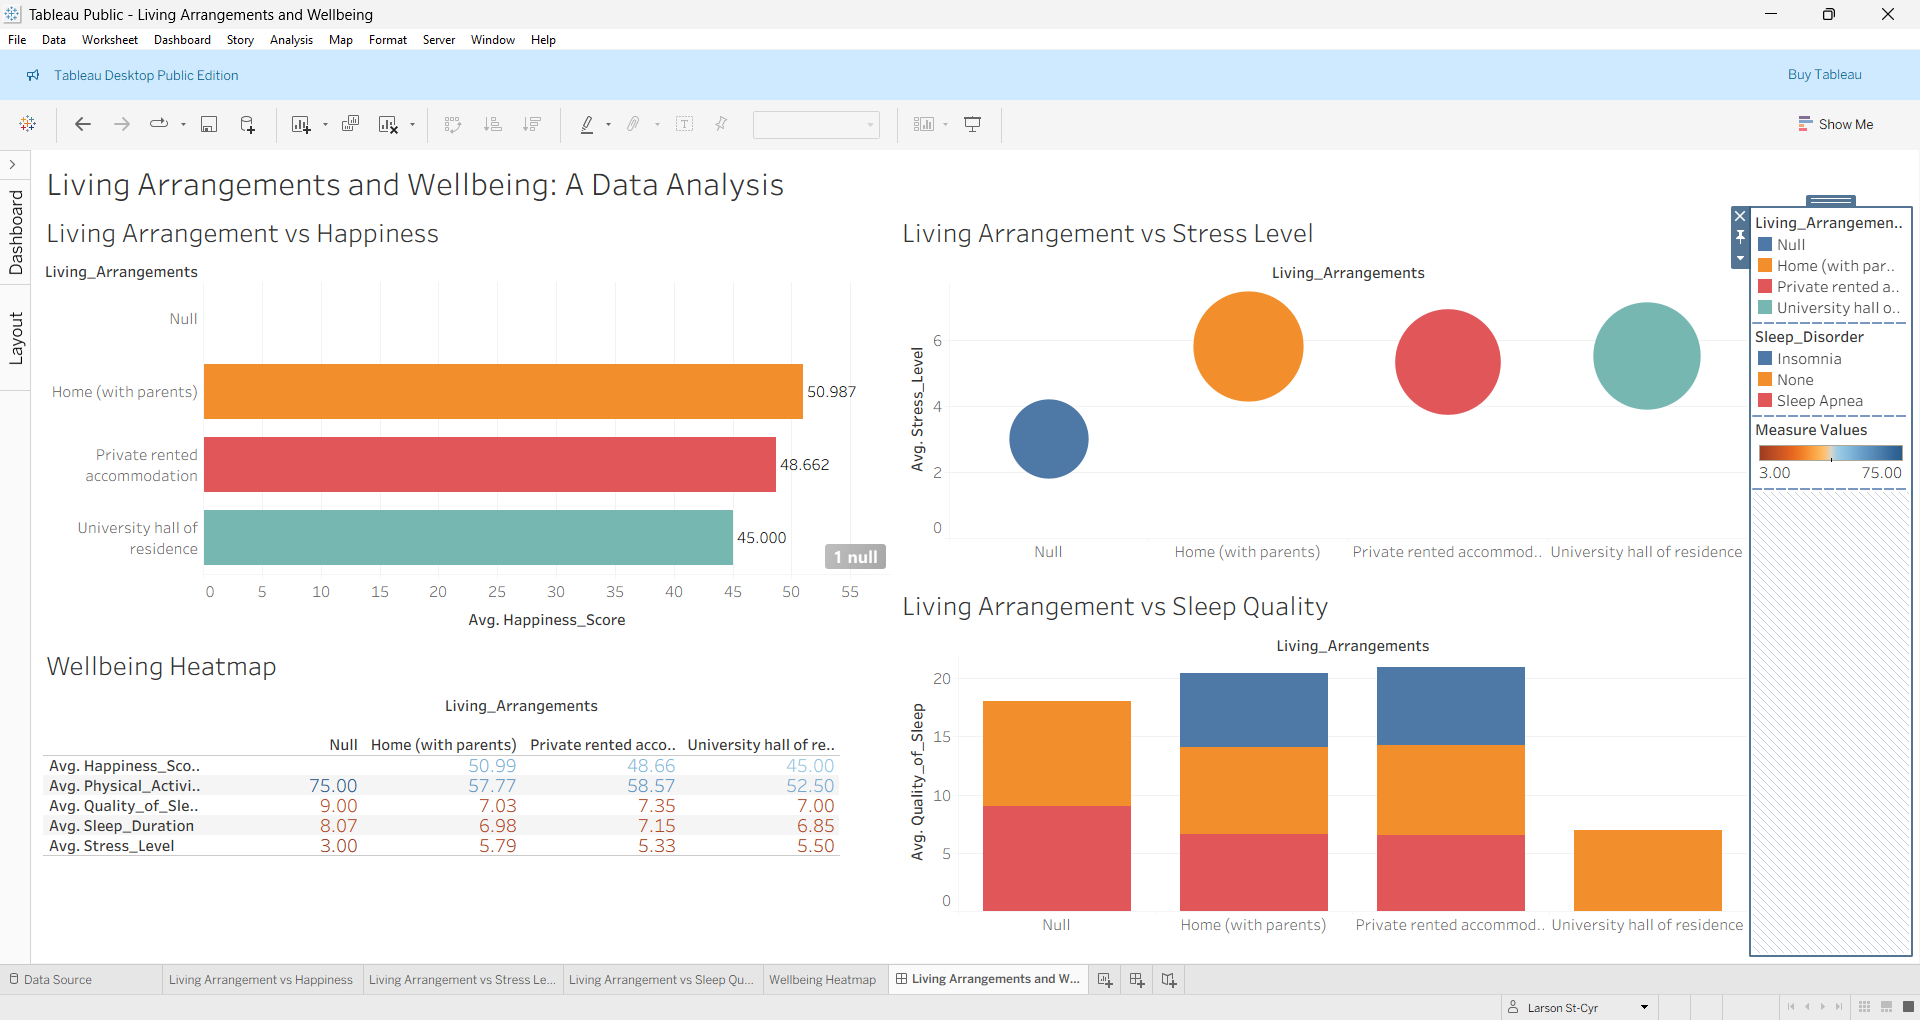

Layout of this report page (visuals, bound fields, positions):
{"tool":"tableau","page":{"name":"Living Arrangements and Wellbeing: A Data Analysis","canvas":[1000,1000],"units":"permille","ordinal":0},"visuals":[{"type":"title","box":[4.8,10,990.3,62.4]},{"type":"worksheet","title":"Living Arrangement vs Happiness","mark":"Bar","rows":["F38"],"cols":["F15"],"box":[4.8,72.4,446.9,531.9]},{"type":"worksheet","title":"Living Arrangement vs Stress Level","mark":"Circle","rows":["F3"],"cols":["F38"],"box":[451.7,72.4,446.9,458.8]},{"type":"legend","title":"Living Arrangement vs Happiness","param":"[federated.0ypbnib103zkcn19qgr0p1esd3tt].[none:F38:nk]","box":[898.6,72.4,96.6,142.3]},{"type":"legend","title":"Living Arrangement vs Sleep Quality","param":"[federated.0ypbnib103zkcn19qgr0p1esd3tt].[none:F43:nk]","box":[898.6,214.7,96.6,116.1]},{"type":"legend","title":"Wellbeing Heatmap","param":"[federated.0ypbnib103zkcn19qgr0p1esd3tt].[Multiple Values]","box":[898.6,330.8,96.6,91.1]},{"type":"worksheet","title":"Living Arrangement vs Sleep Quality","mark":"Automatic","rows":["F2"],"cols":["F38"],"box":[451.7,531.2,446.9,458.8]},{"type":"worksheet","title":"Wellbeing Heatmap","mark":"Automatic","cols":["F38"],"box":[4.8,604.3,446.9,385.7]}]}

Visuals, with their boxes on the dashboard's canvas, which has no fixed pixel size, in thousandths of its width and height (x1, y1, x2, y2). These are canvas units, not pixel positions in the 1920x1020 screenshot, which may show the page scaled, cropped or inside an application window:
title: region(5, 10, 995, 72)
"Living Arrangement vs Happiness" worksheet (Bar marks): region(5, 72, 452, 604)
"Living Arrangement vs Stress Level" worksheet (Circle marks): region(452, 72, 899, 531)
"Living Arrangement vs Happiness" legend: region(899, 72, 995, 215)
"Living Arrangement vs Sleep Quality" legend: region(899, 215, 995, 331)
"Wellbeing Heatmap" legend: region(899, 331, 995, 422)
"Living Arrangement vs Sleep Quality" worksheet: region(452, 531, 899, 990)
"Wellbeing Heatmap" worksheet: region(5, 604, 452, 990)
